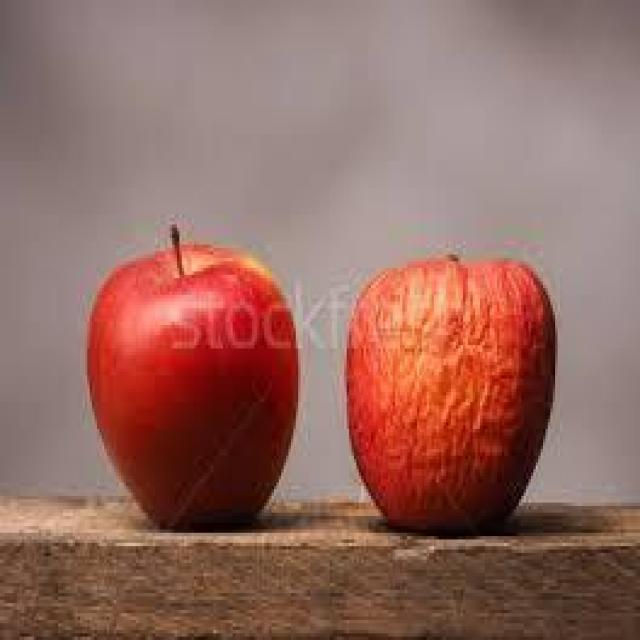maca: (85, 221, 298, 530), (342, 248, 558, 533)
